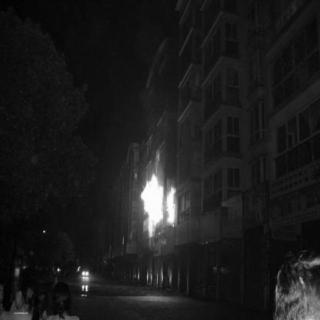Fire: (166, 185, 178, 228)
